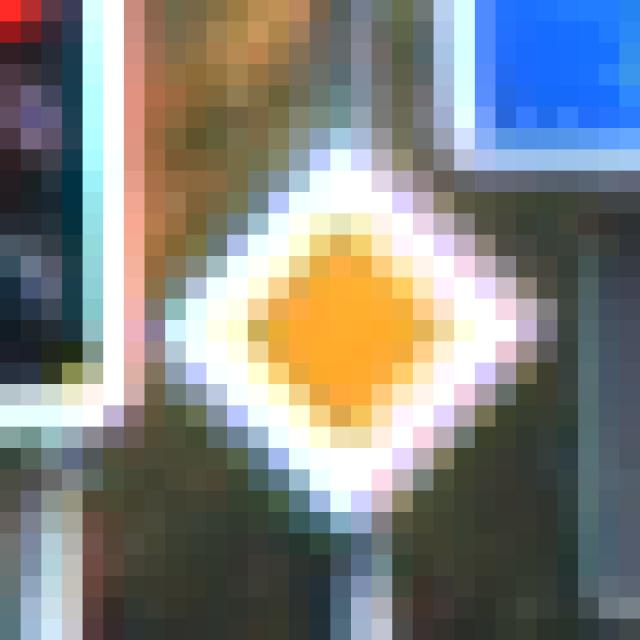Main Road: (125, 108, 538, 534)
